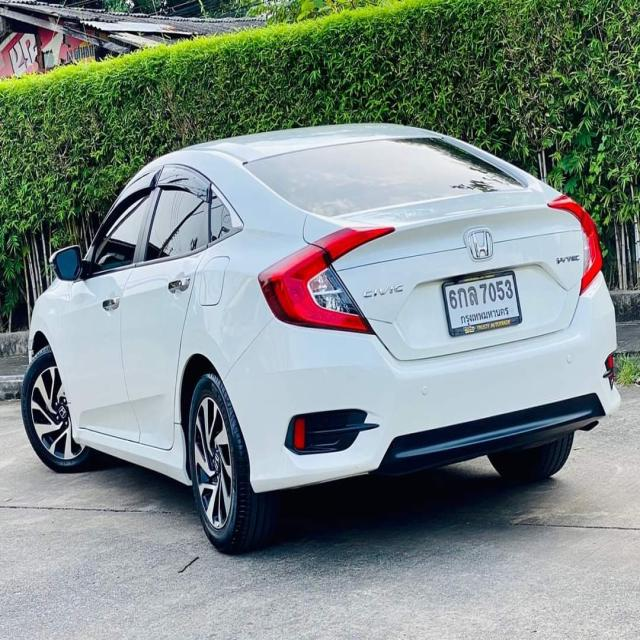license_plate: (440, 267, 526, 340)
